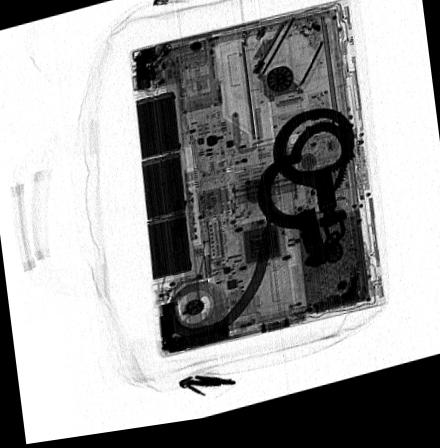HandCuffs: (255, 117, 354, 278)
